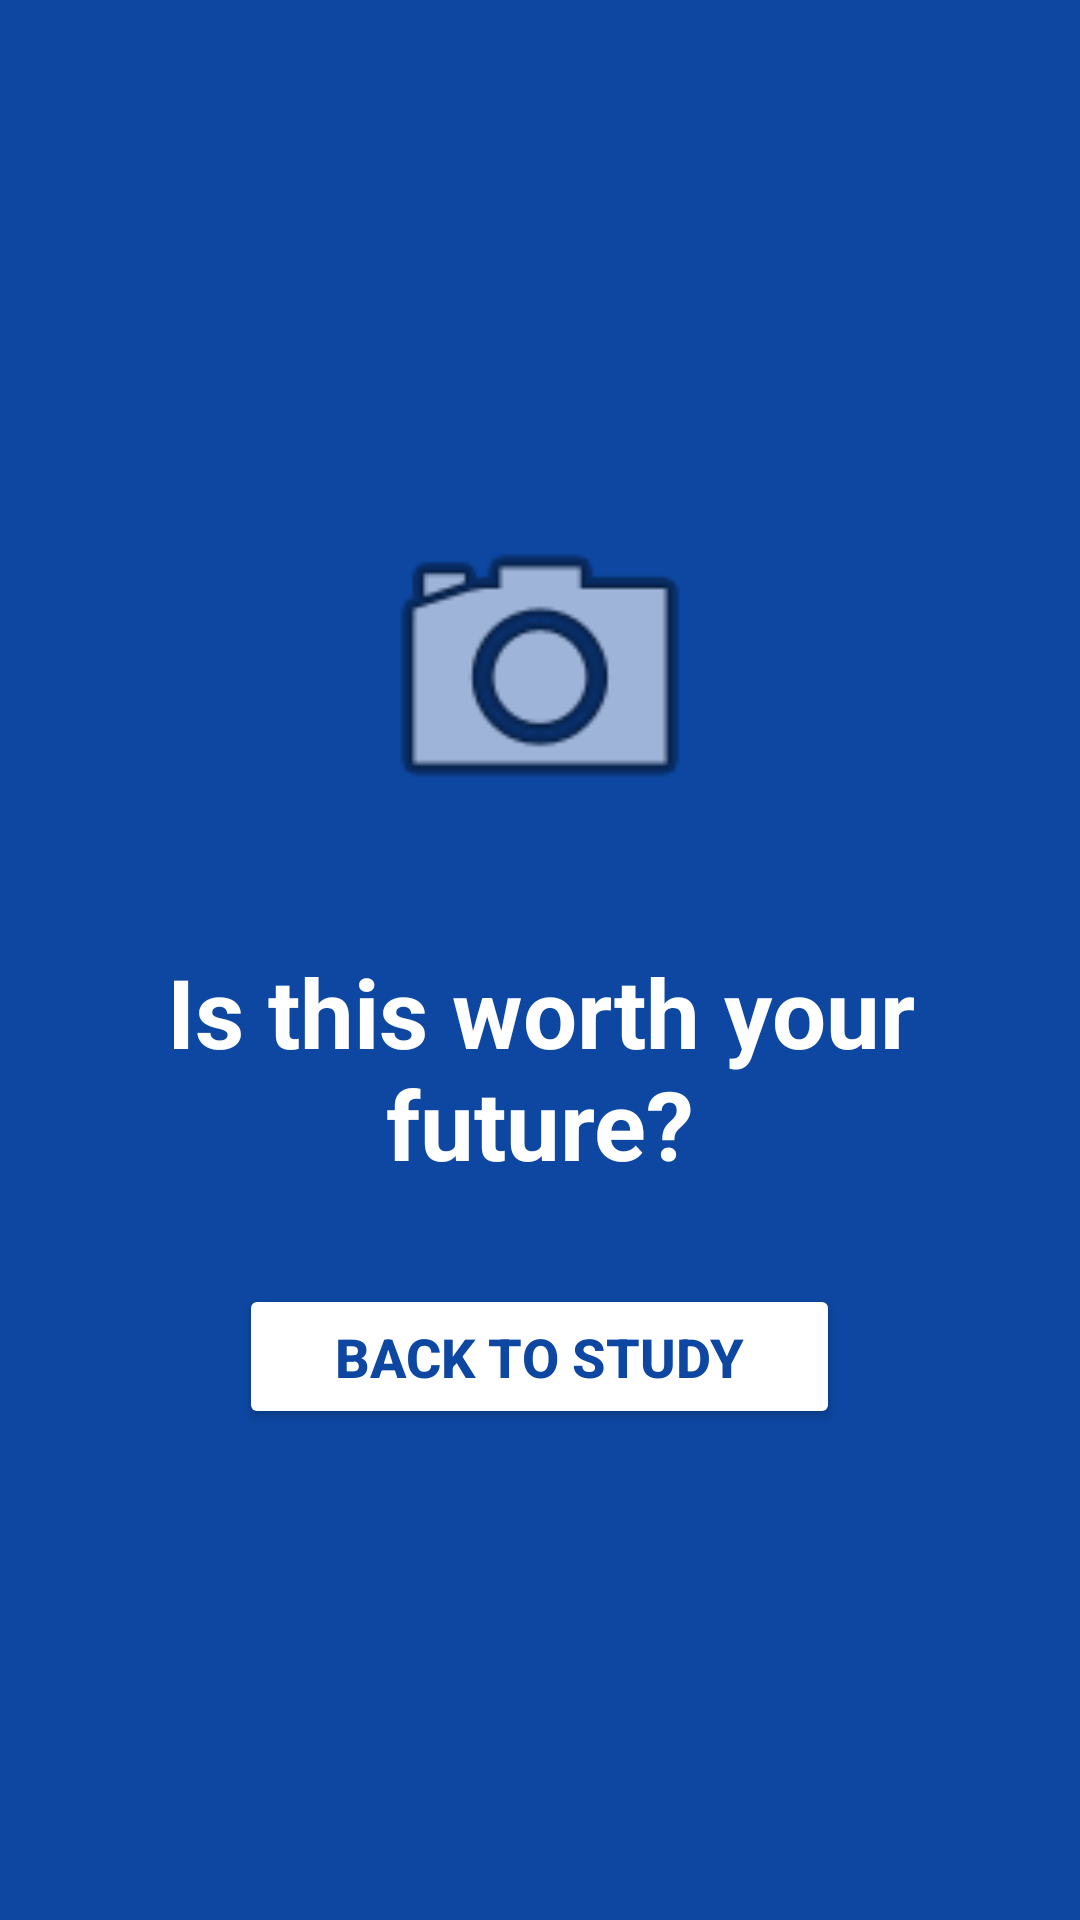

Named icons in this screenshot (1080 x 1920) and their centers, (x=x, y=y):
Study Image Placeholder: (x=540, y=665)
